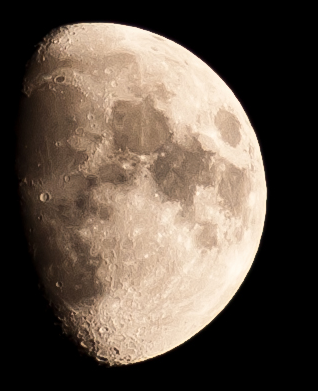crater: (26, 176, 59, 211), (47, 67, 75, 94), (43, 130, 68, 158), (68, 121, 90, 145), (118, 232, 139, 254), (97, 61, 119, 77), (59, 168, 75, 188), (48, 277, 67, 289), (106, 77, 123, 90), (85, 108, 99, 122)
